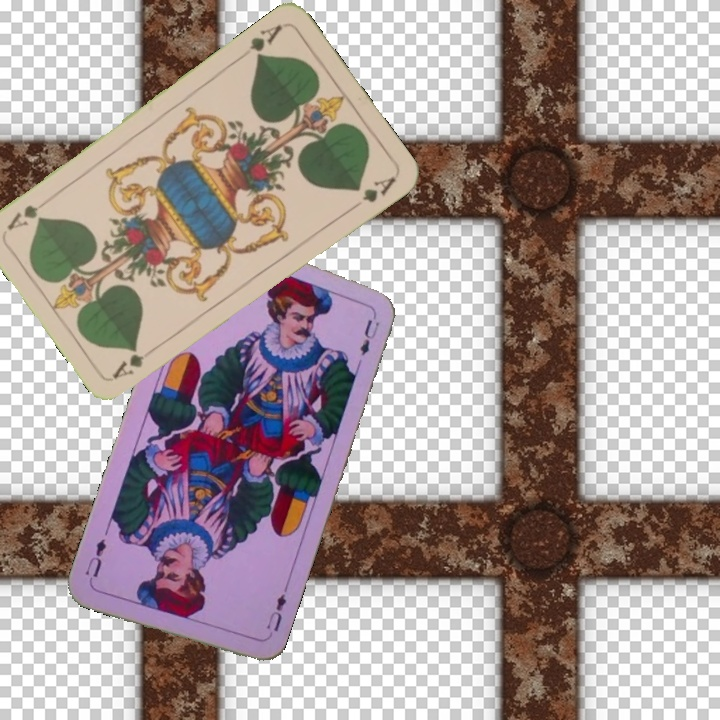EU: (260, 586, 289, 643)
GA: (235, 20, 285, 63), (108, 341, 159, 382)
